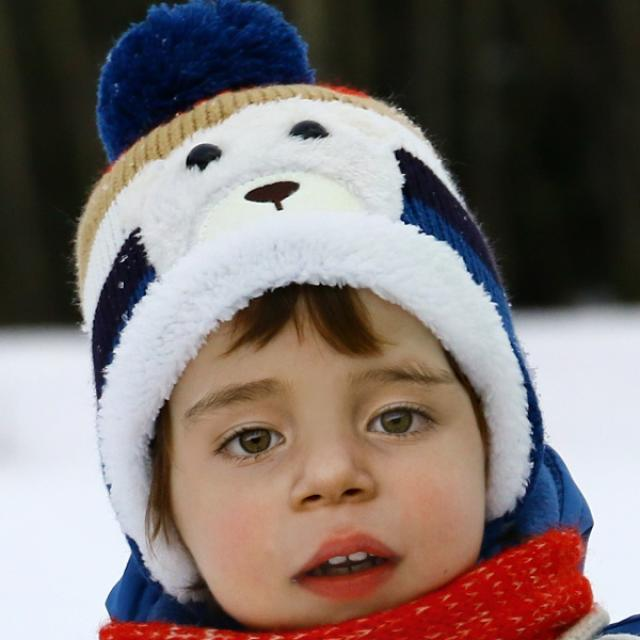face: (152, 321, 529, 618)
